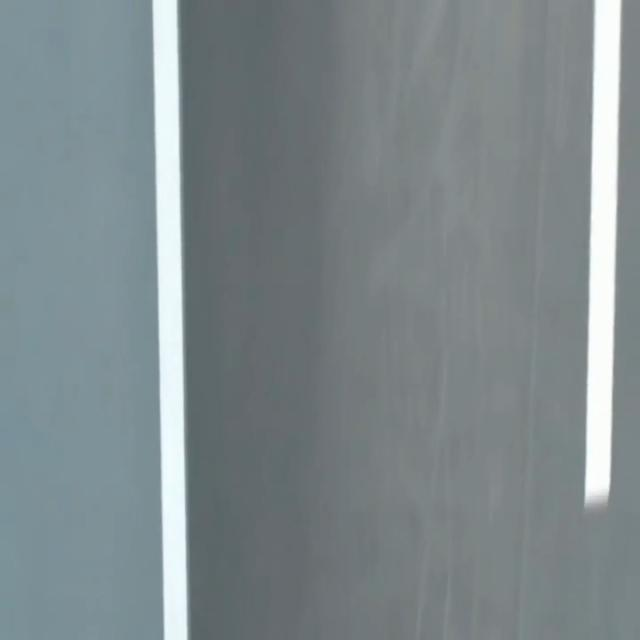center: (584, 0, 620, 508)
left: (152, 0, 188, 639)
